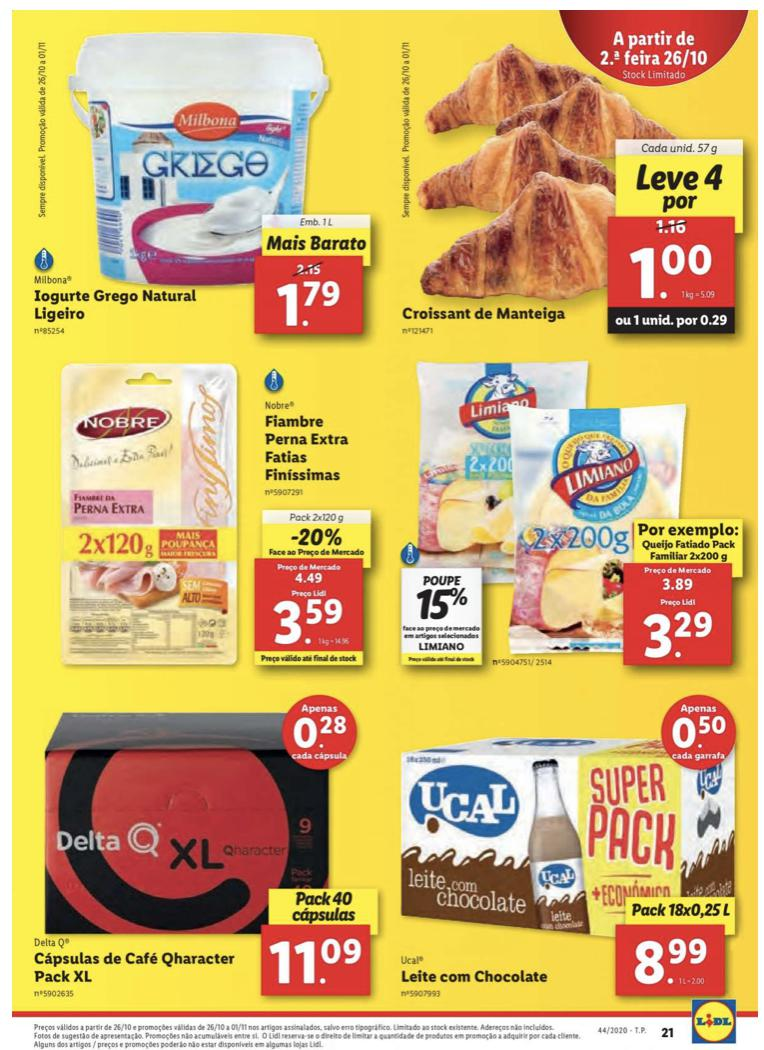name: (32, 948, 239, 987), (258, 407, 353, 485), (26, 286, 202, 325), (397, 301, 571, 326), (401, 966, 552, 986)
price: (626, 237, 722, 304), (271, 931, 359, 990), (633, 931, 709, 987), (269, 274, 346, 327), (272, 594, 345, 648), (636, 608, 715, 657)
product: (389, 343, 757, 703), (17, 26, 375, 351), (389, 31, 757, 343), (28, 356, 378, 683), (26, 698, 376, 1004), (398, 691, 746, 998)
promotion: (409, 586, 475, 622), (291, 526, 345, 548)
